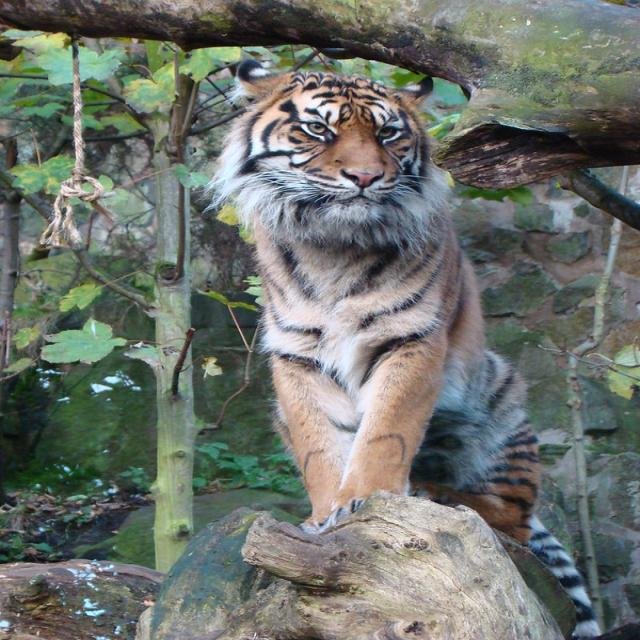Tiger: (206, 56, 613, 636)
